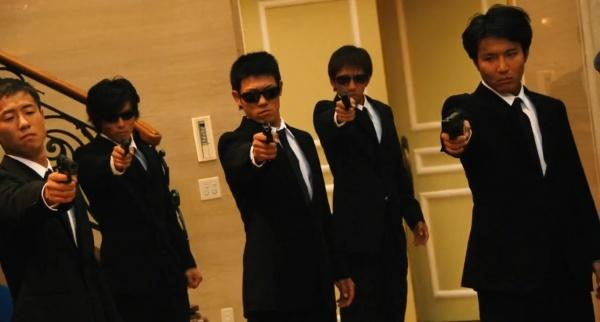Gun: (55, 155, 78, 186), (441, 110, 464, 140), (119, 134, 133, 157), (261, 120, 274, 144), (340, 96, 353, 112)
